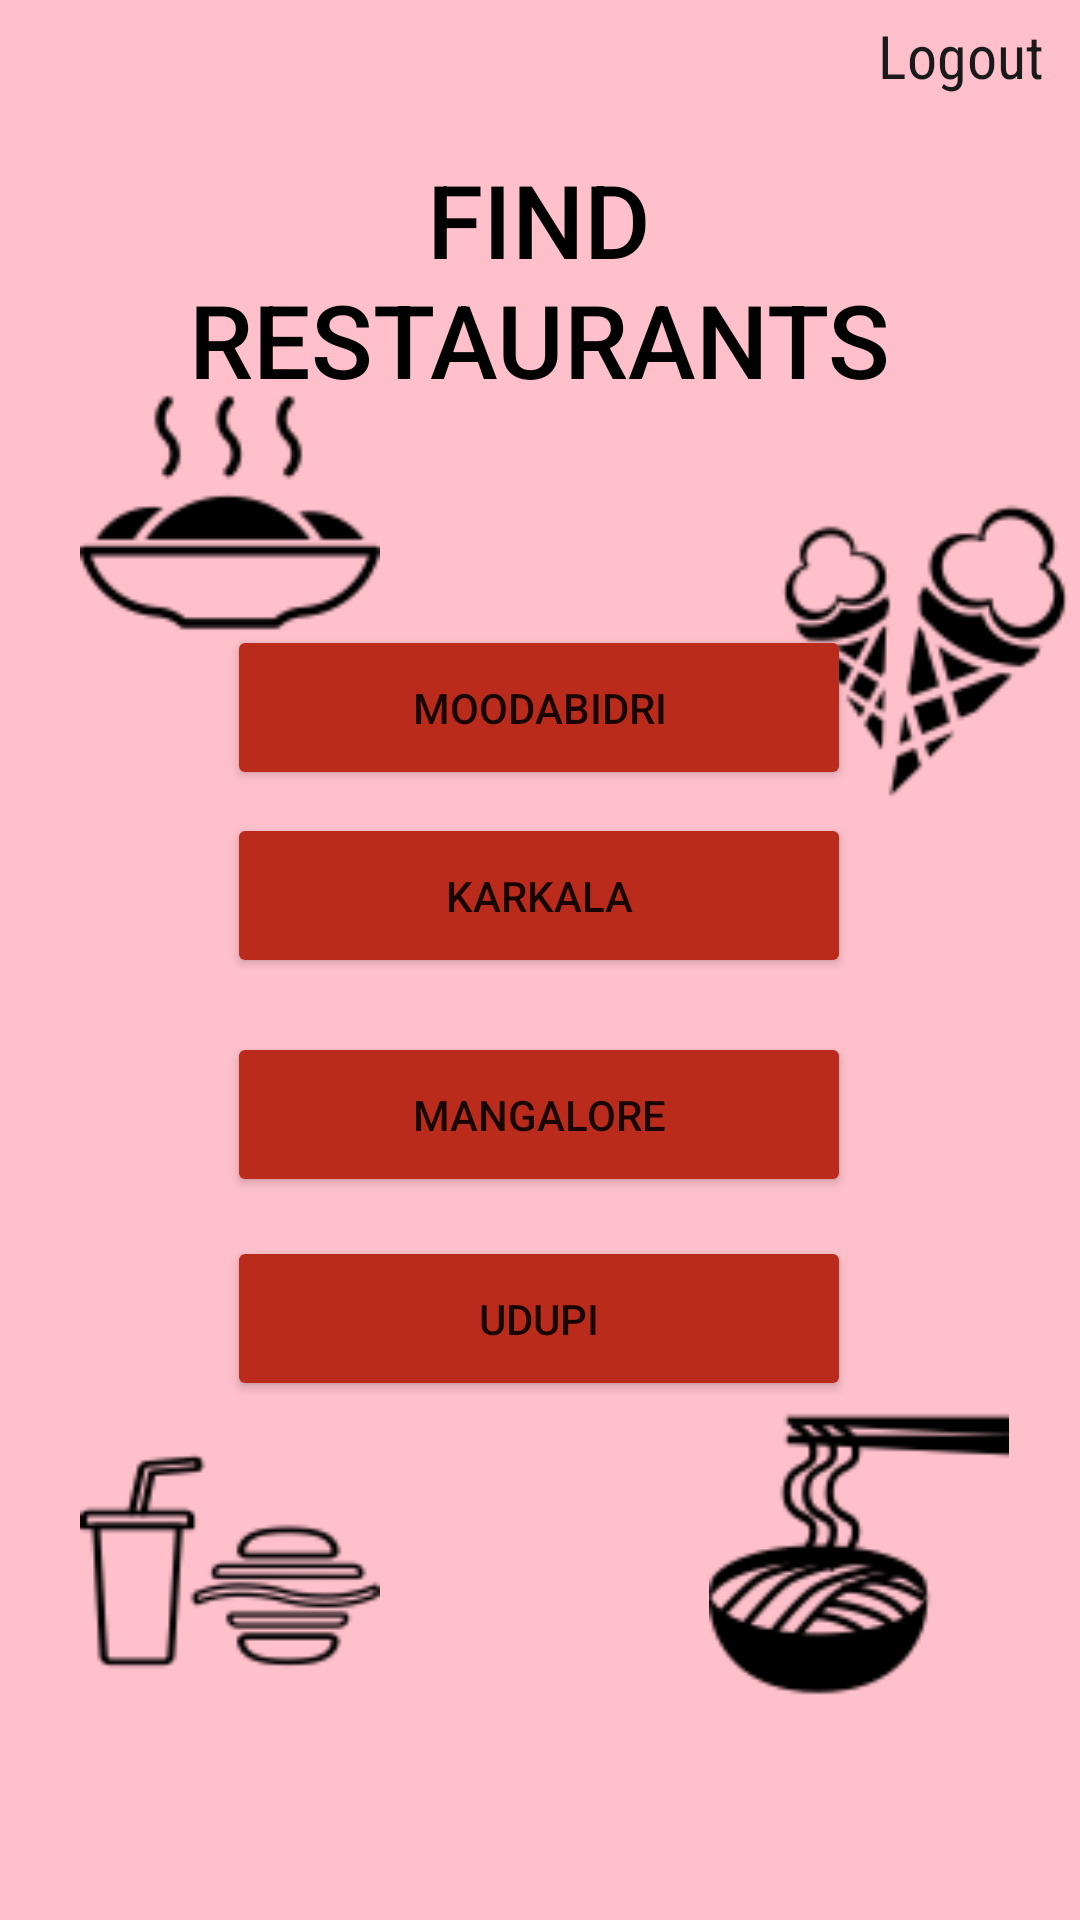

Screen size 1080 × 1920. Icon name, then its center in pixels as (x,y):
bowl: (230,512)
noodles: (859,1554)
